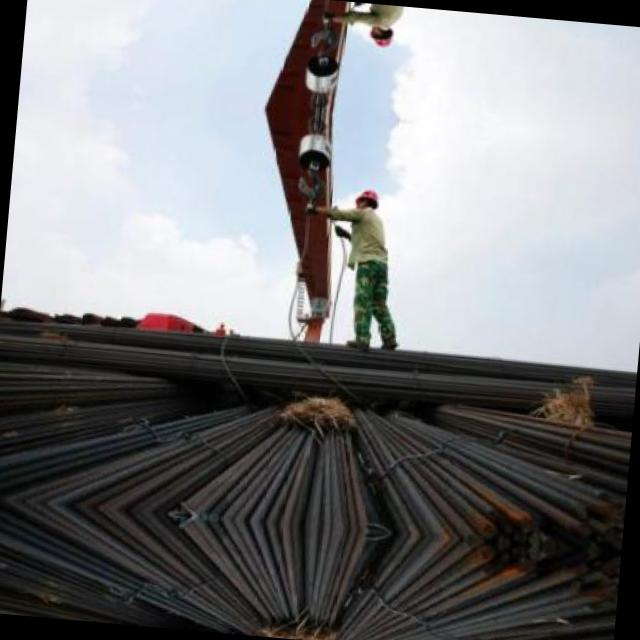helmet: (346, 183, 384, 220), (360, 15, 398, 52)
